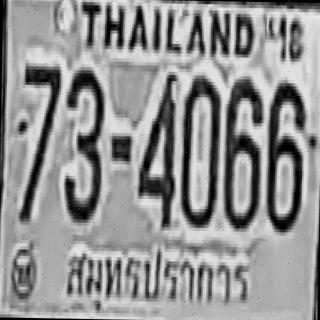N00: (179, 72, 219, 225)
N03: (61, 64, 103, 220)
N04: (136, 68, 176, 224)
N06: (222, 74, 262, 227), (265, 80, 305, 230)
N07: (19, 61, 59, 220)
P57: (60, 236, 255, 306)
